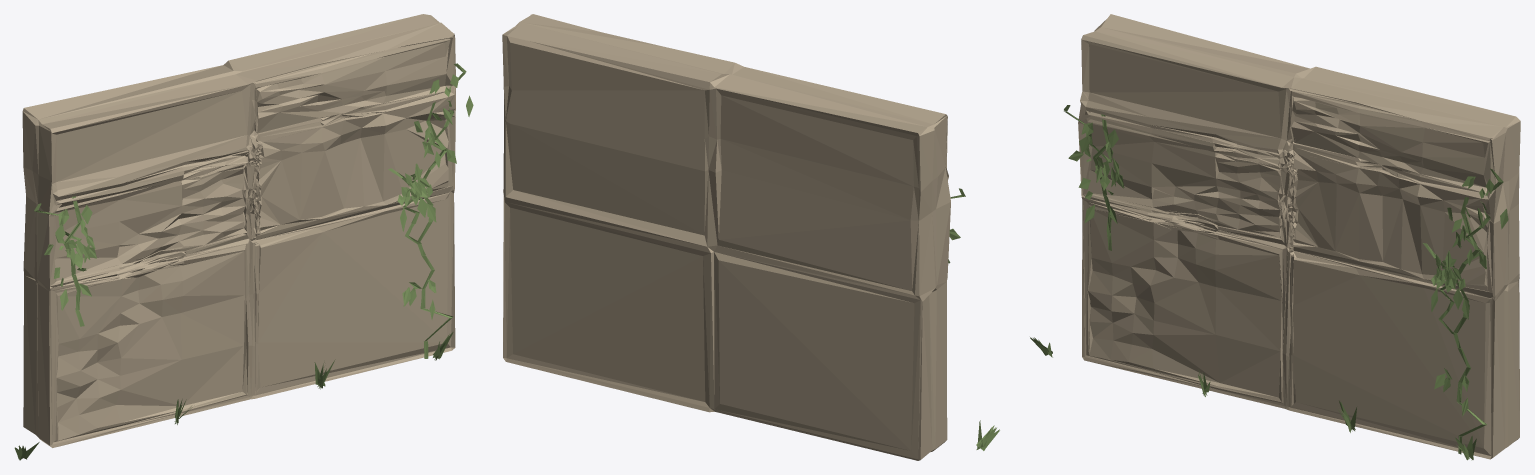
File: SM_Wall_D.fbx
The picture shows the model from 3 angles, left to right: view 1: azimuth 30°, elevation 25°; view 2: azimuth 150°, elevation 25°; view 3: azimuth 330°, elevation 25°; orthographic projection. The views are drawn at different scales.
Parts seen in each view (by area): view 1: SM_Wall_D; view 2: SM_Wall_D; view 3: SM_Wall_D.
Part boxes in pixels (bbox=[...]): SM_Wall_D: bbox=[14, 14, 473, 460]; SM_Wall_D: bbox=[502, 14, 999, 460]; SM_Wall_D: bbox=[1030, 14, 1520, 460].
Bounding box in the file's own units: 4.6 × 3.08 × 0.6747.
